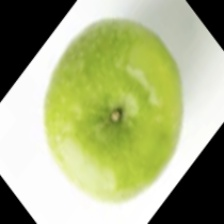apple: (39, 37, 188, 172)
